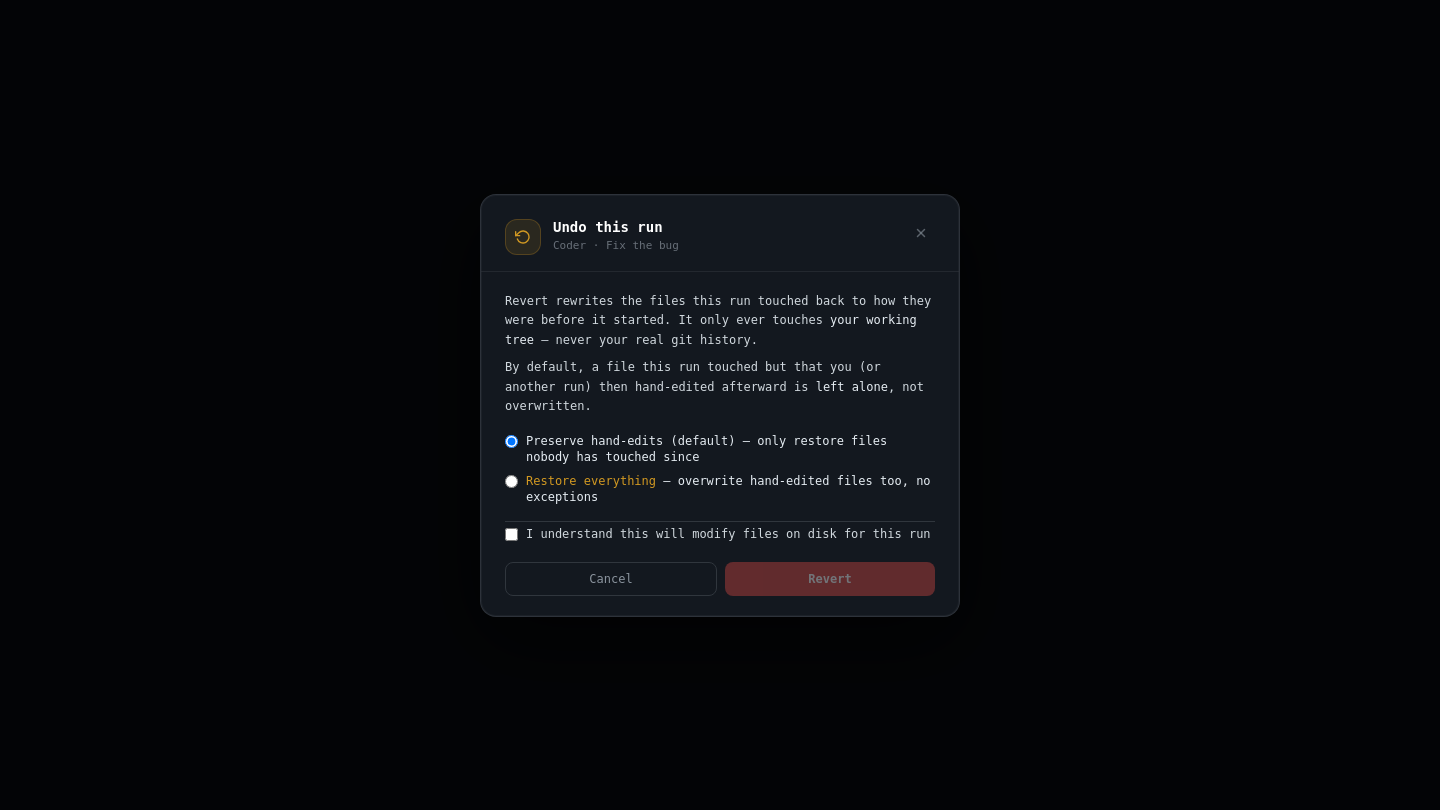
CheckpointRevertDialog › leads with a NothingCaptured warning instead of a success headline
Click the checkbox with test id "checkpoint-revert-confirm" at (512, 534), box x1=505 y1=528 x2=518 y2=540
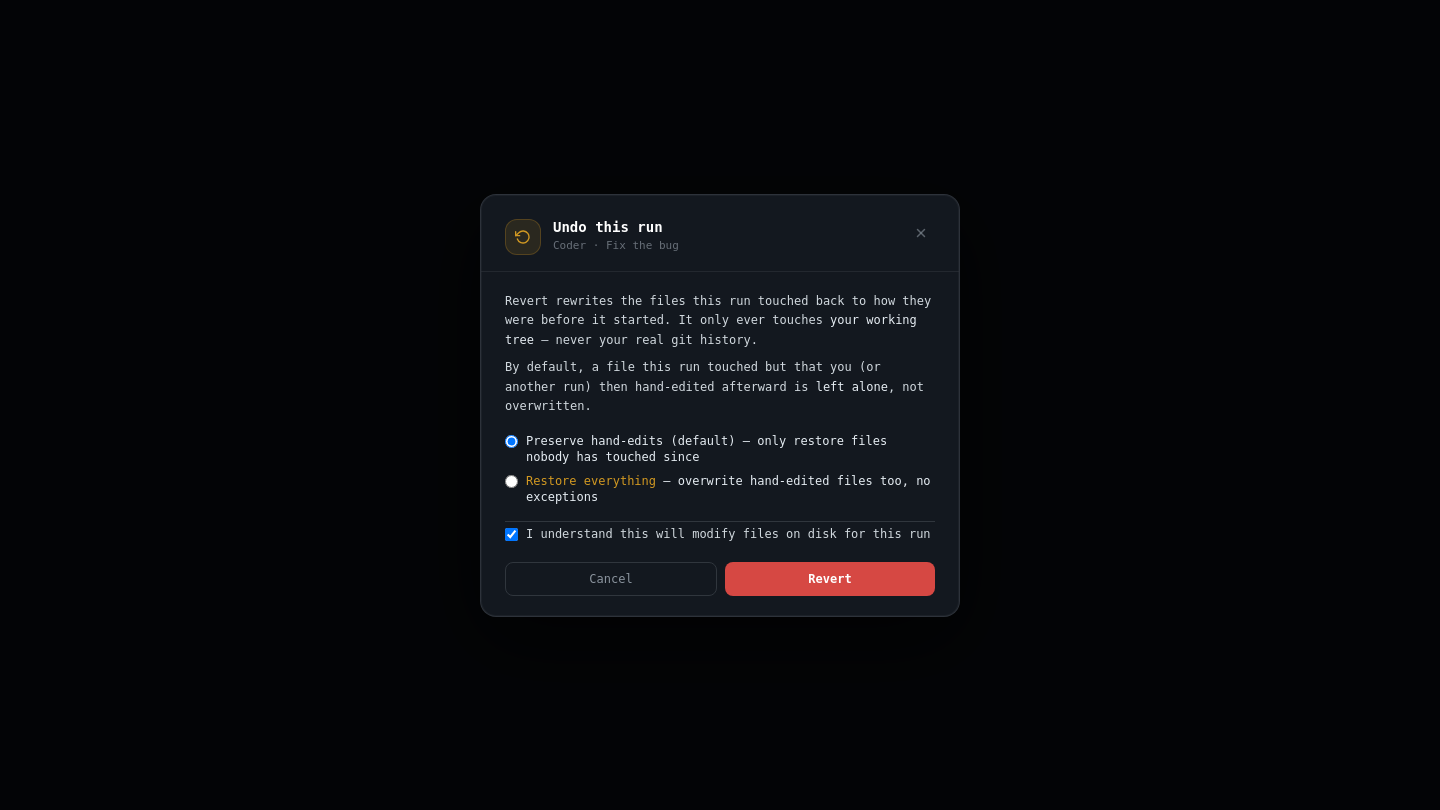
Click the button with test id "checkpoint-revert-confirm-btn" at (830, 578), box x1=725 y1=562 x2=935 y2=596
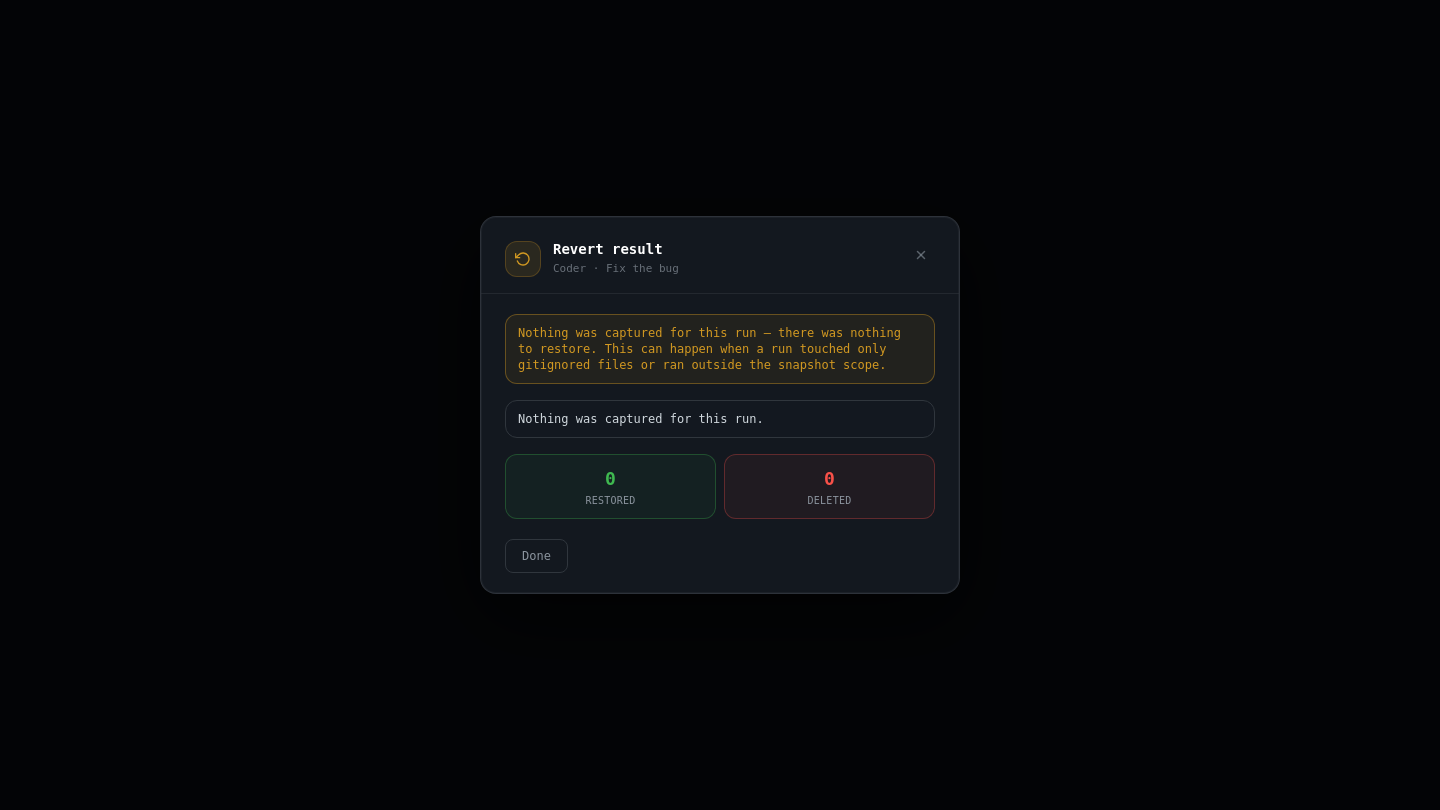
Check: the text with test id "checkpoint-result-nothing-captured" is shown, box x1=505 y1=314 x2=935 y2=384
